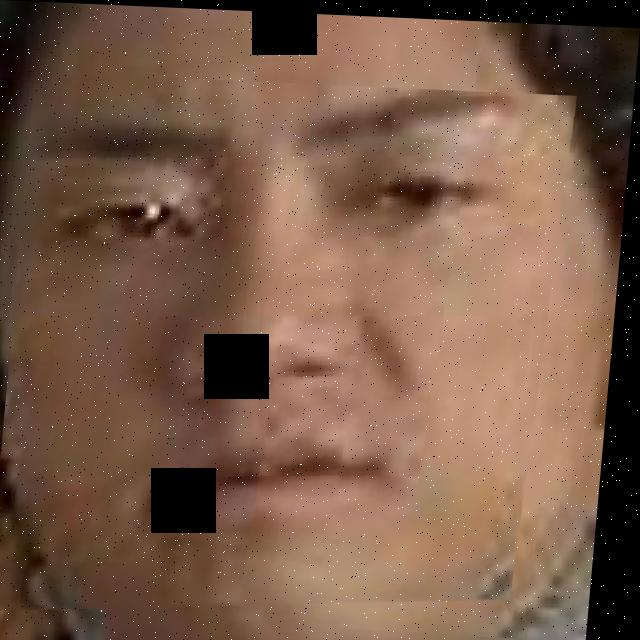anger: (0, 71, 580, 631)
